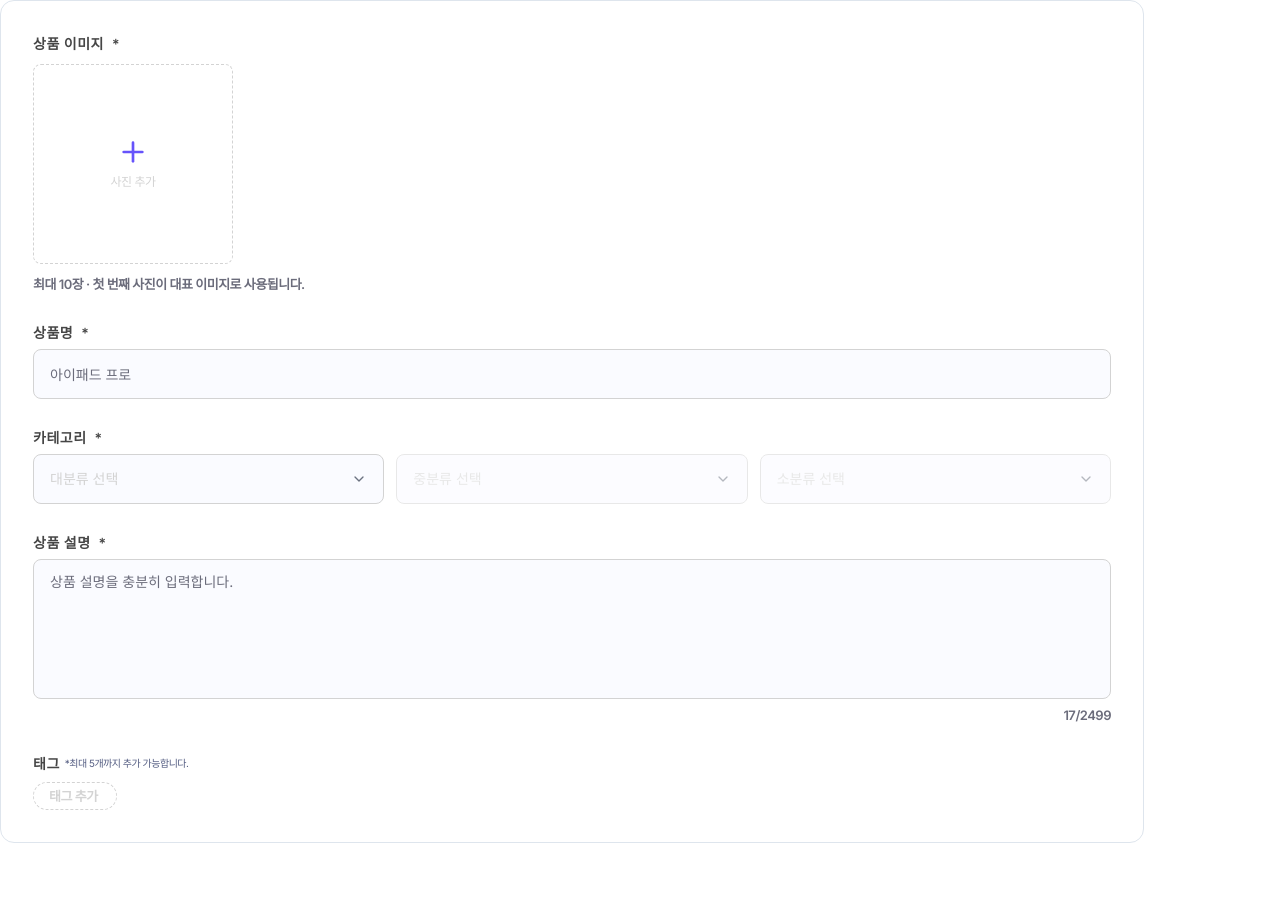
Test case: DirectRegisterInfoStep › requires an image and keeps the child-category error until a child is selected
This screenshot has width=1280, height=900.
Submit the form with id "direct-register-form"
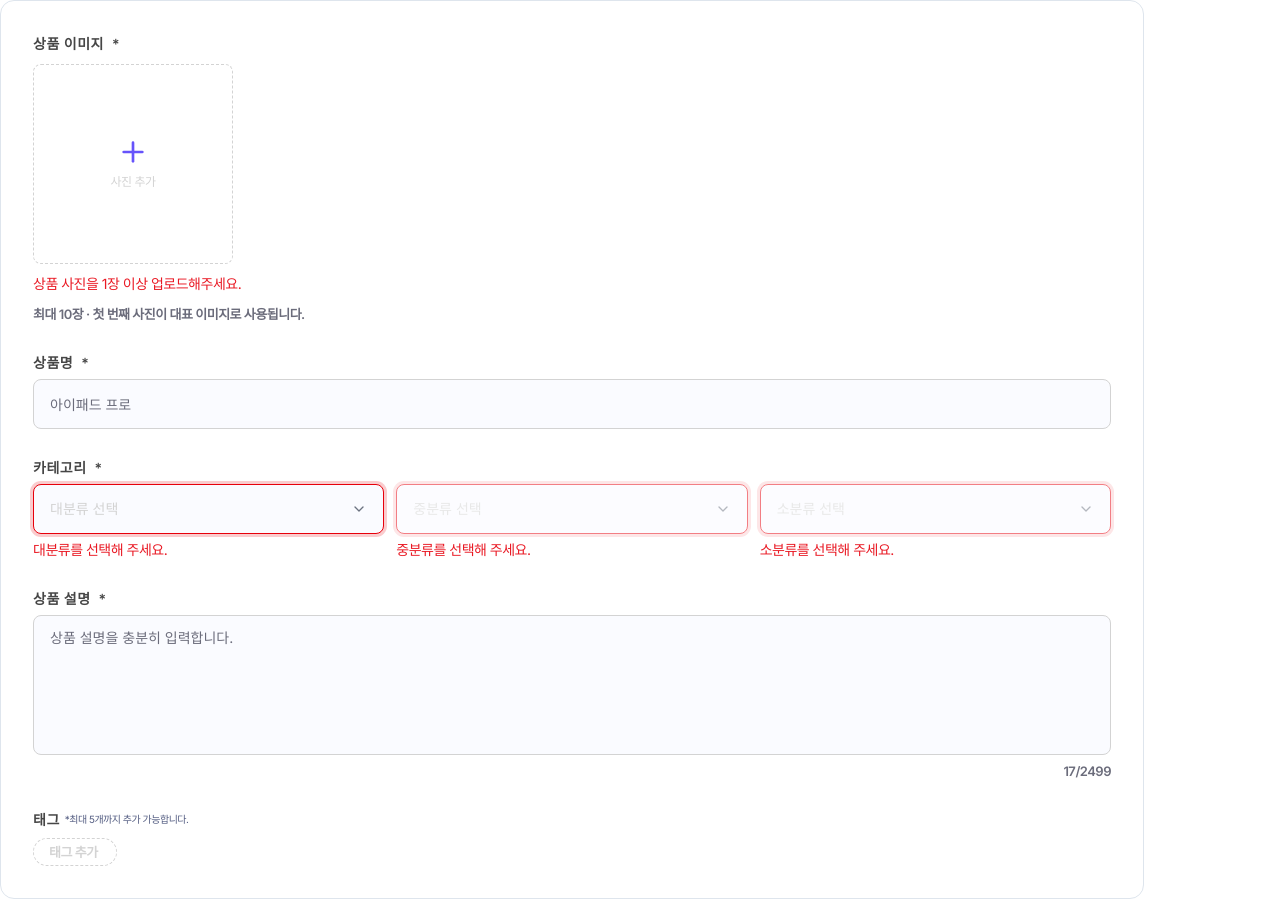
expect the text "상품 사진을 1장 이상 업로드해주세요." is shown: met, box [33, 274, 241, 294]
expect the text "대분류를 선택해 주세요." is shown: met, box [33, 540, 167, 560]
expect the text "중분류를 선택해 주세요." is shown: met, box [396, 540, 530, 560]
Click the dropdown labelled "대분류".
click(84, 508)  # box [33, 484, 384, 534]
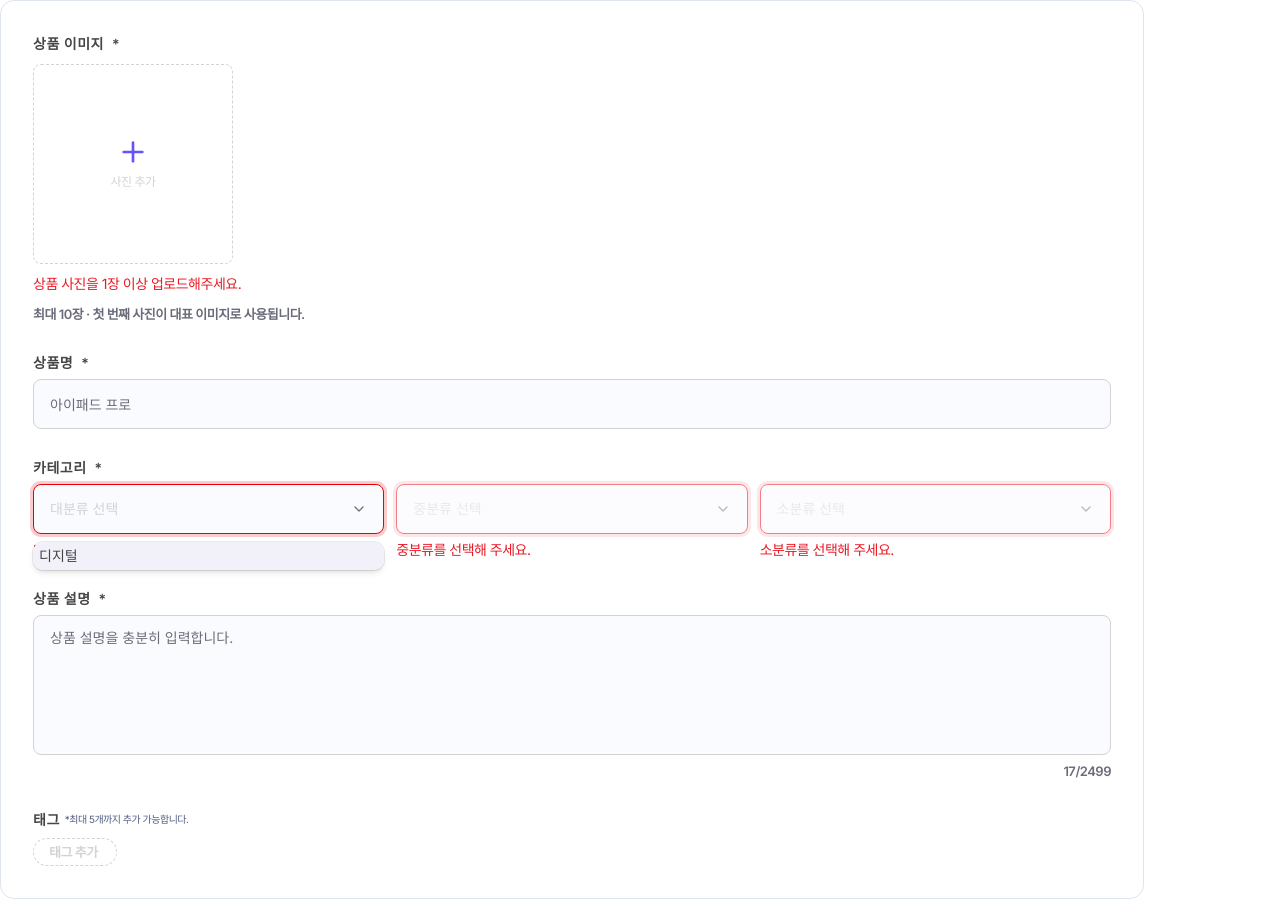
Click the option "디지털".
click(58, 556)  # box [33, 542, 384, 570]
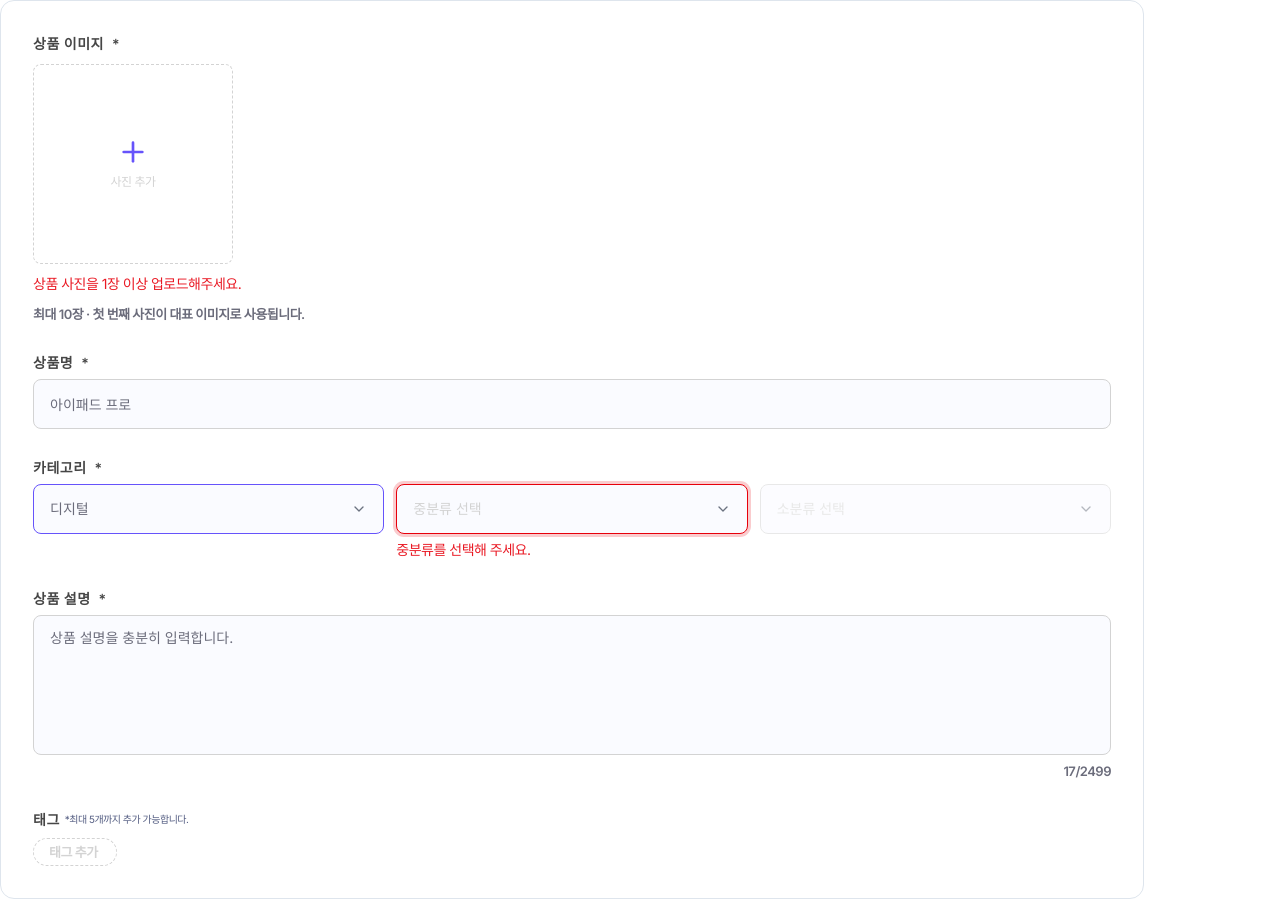
expect the text "중분류를 선택해 주세요." is shown: met, box [396, 540, 530, 560]
expect the text "대분류를 선택해 주세요." is gone: met
